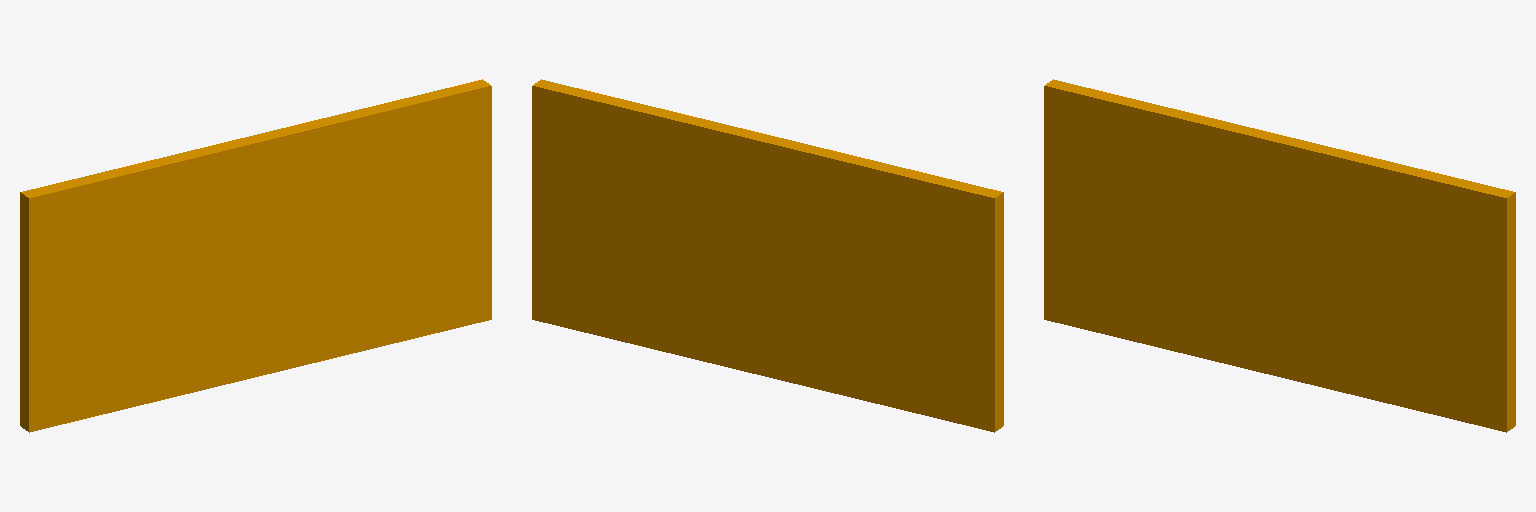
URDF robot description (wallw):
<?xml version="1.0"?>
<robot name="wallw">
<link name="wallw">
    <visual>
        <origin rpy="-1.57079632675 0 0" xyz="0 0 0"/>
        <geometry>
            <mesh filename="cube.obj" scale="0.775 0.375 0.025"/>
        </geometry>
    </visual>
    <collision>
        <origin xyz="0 0 0"/>
        <geometry>
            <box size="1.55 0.05 0.75"/>
        </geometry>
    </collision>
    <inertial>
        <density value="1000.0"/>
    </inertial>
</link>
</robot>

--- What the picture shows (computed from the rendered views, not written in the file) ---
Views: 3 orthographic renders of the robot side by side, from view 1: azimuth 30°, elevation 25°; view 2: azimuth 150°, elevation 25°; view 3: azimuth 330°, elevation 25°.
Model wallw with 1 links and 0 joints (none), rooted at wallw, posed all joints at 0.
Links seen in each view (by area): view 1: wallw; view 2: wallw; view 3: wallw.
Link boxes in pixels (x1,y1,x2,y2): wallw: [20, 79, 491, 432]; wallw: [532, 79, 1003, 432]; wallw: [1044, 79, 1515, 432].
Bounding box of the posed robot: 1.55 × 0.05 × 0.75 m (x, y, z).
1 mesh visuals loaded from 1 distinct referenced files (1 OBJ).
